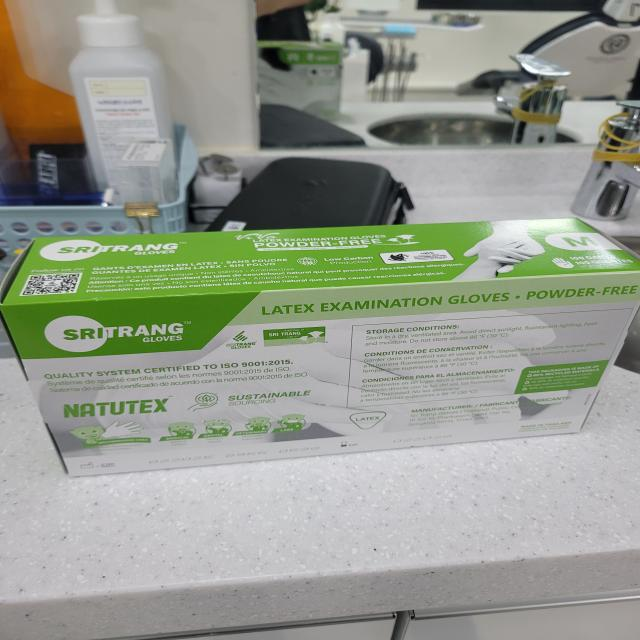glove: (10, 223, 636, 467)
